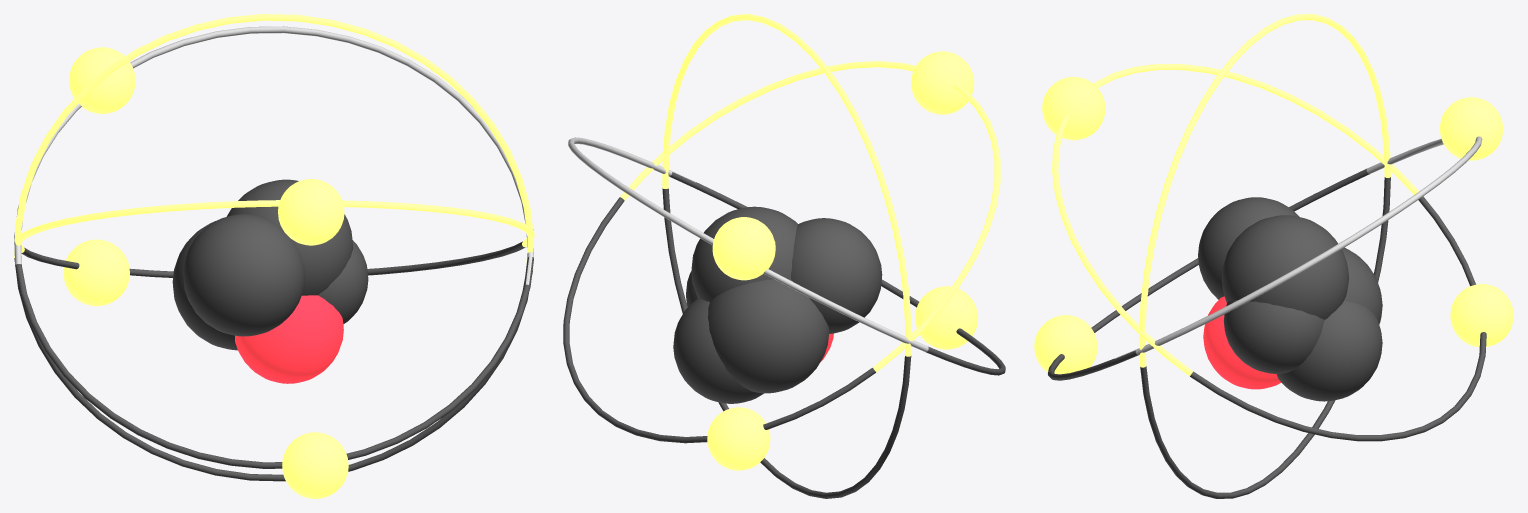
Rendered from atom split.fbx.
3 renders of one model, left to right at view 1: azimuth 30°, elevation 25°; view 2: azimuth 150°, elevation 25°; view 3: azimuth 270°, elevation 25°, orthographic. The views are drawn at different scales.
Parts seen in each view (by area): view 1: bottom, top; view 2: bottom, top; view 3: bottom, top.
Part boxes in pixels (<box>): bottom: <box>14,228,533,498</box>; top: <box>14,14,534,295</box>; bottom: <box>563,172,1005,498</box>; top: <box>568,14,1000,372</box>; bottom: <box>1034,168,1513,498</box>; top: <box>1042,14,1503,376</box>.
Bounding box in the file's own units: 173 × 178 × 173.
